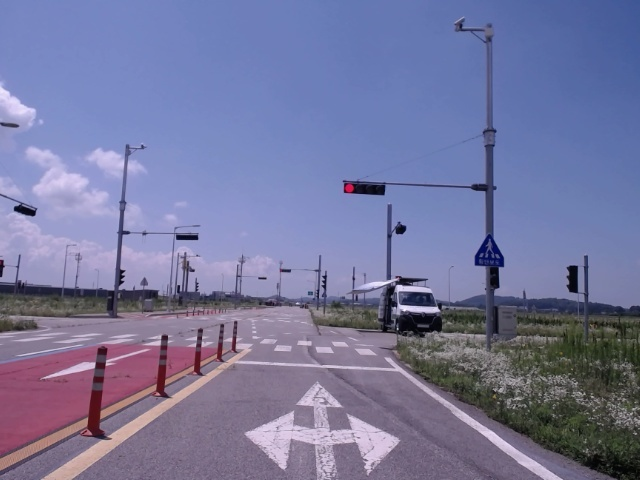red_4: (344, 182, 385, 195)
